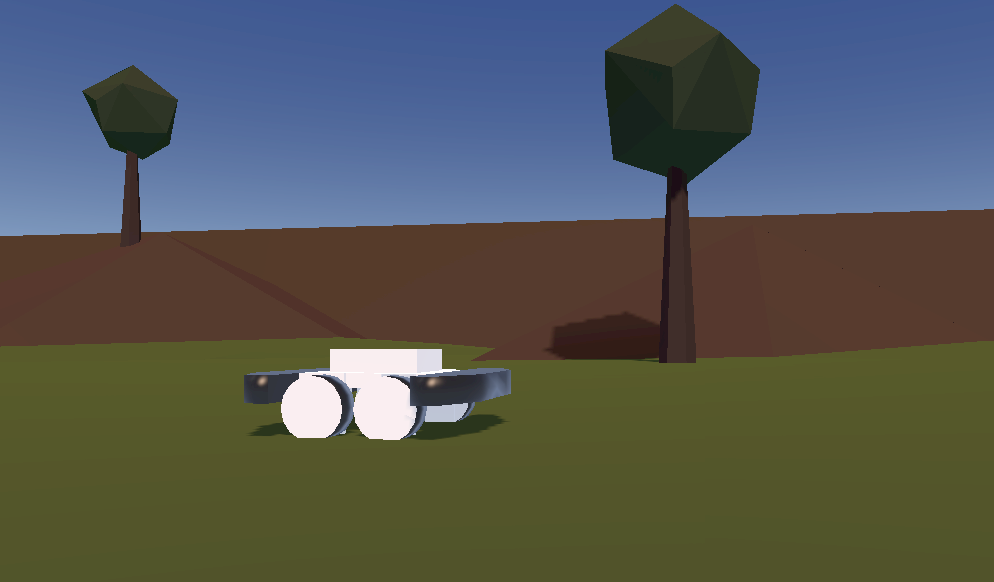tree: (591, 3, 761, 361), (73, 56, 184, 230)
